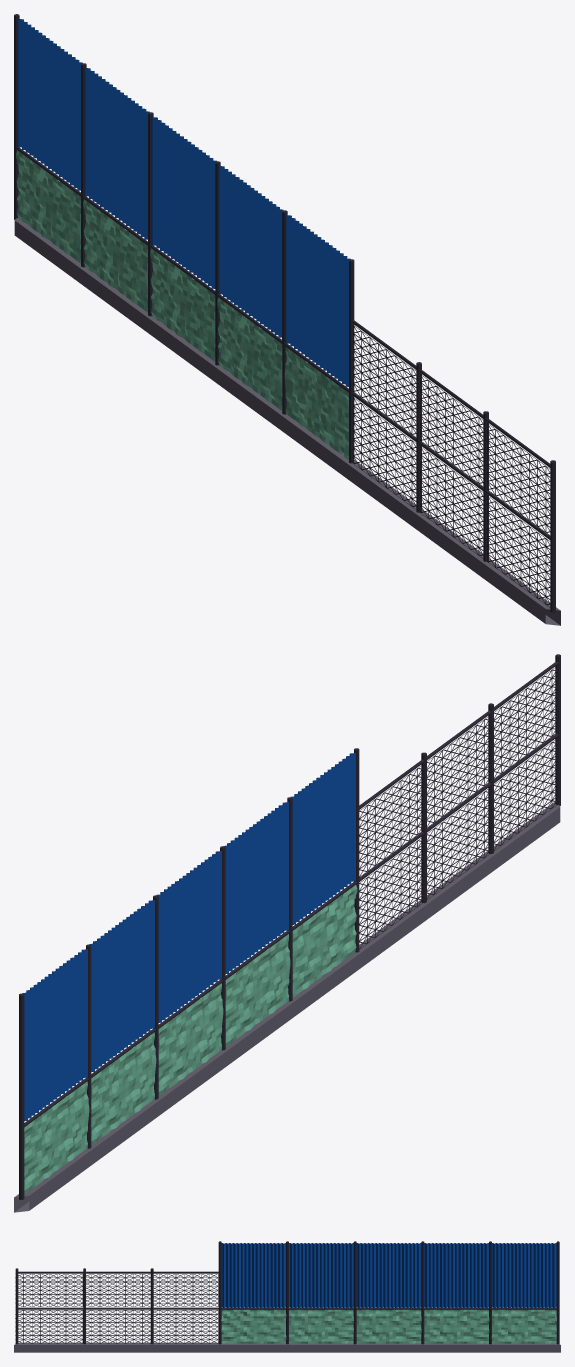
Rendered from 09 Fence_2.FBX.
3 views of the same model, one above another, from view 1: azimuth 30°, elevation 25°; view 2: azimuth 150°, elevation 25°; view 3: azimuth 270°, elevation 25° (orthographic). The views are drawn at different scales.
Parts seen in each view (by area): view 1: Fence001; view 2: Fence001; view 3: Fence001.
Part boxes in pixels (box(x1,y1,x2,y2)): Fence001: box(14, 14, 560, 625); Fence001: box(14, 654, 560, 1212); Fence001: box(14, 1241, 560, 1352).
Size of the model in its own units: 101 by 2165 by 9801.
